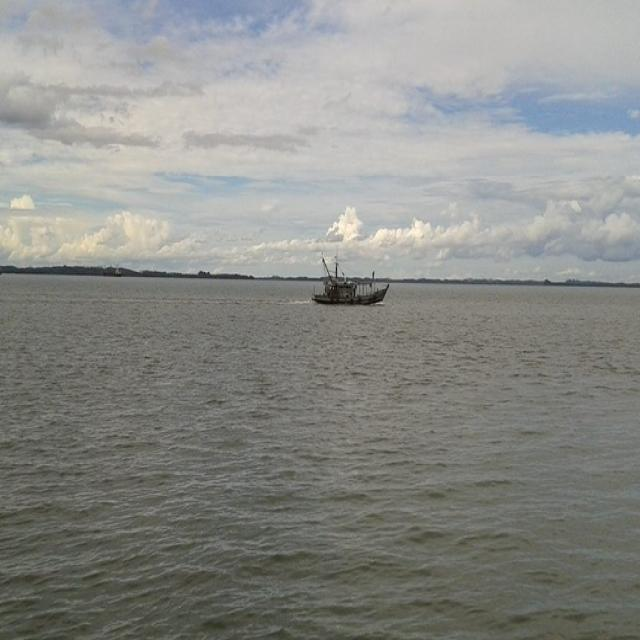fishing boat: (312, 244, 392, 308)
